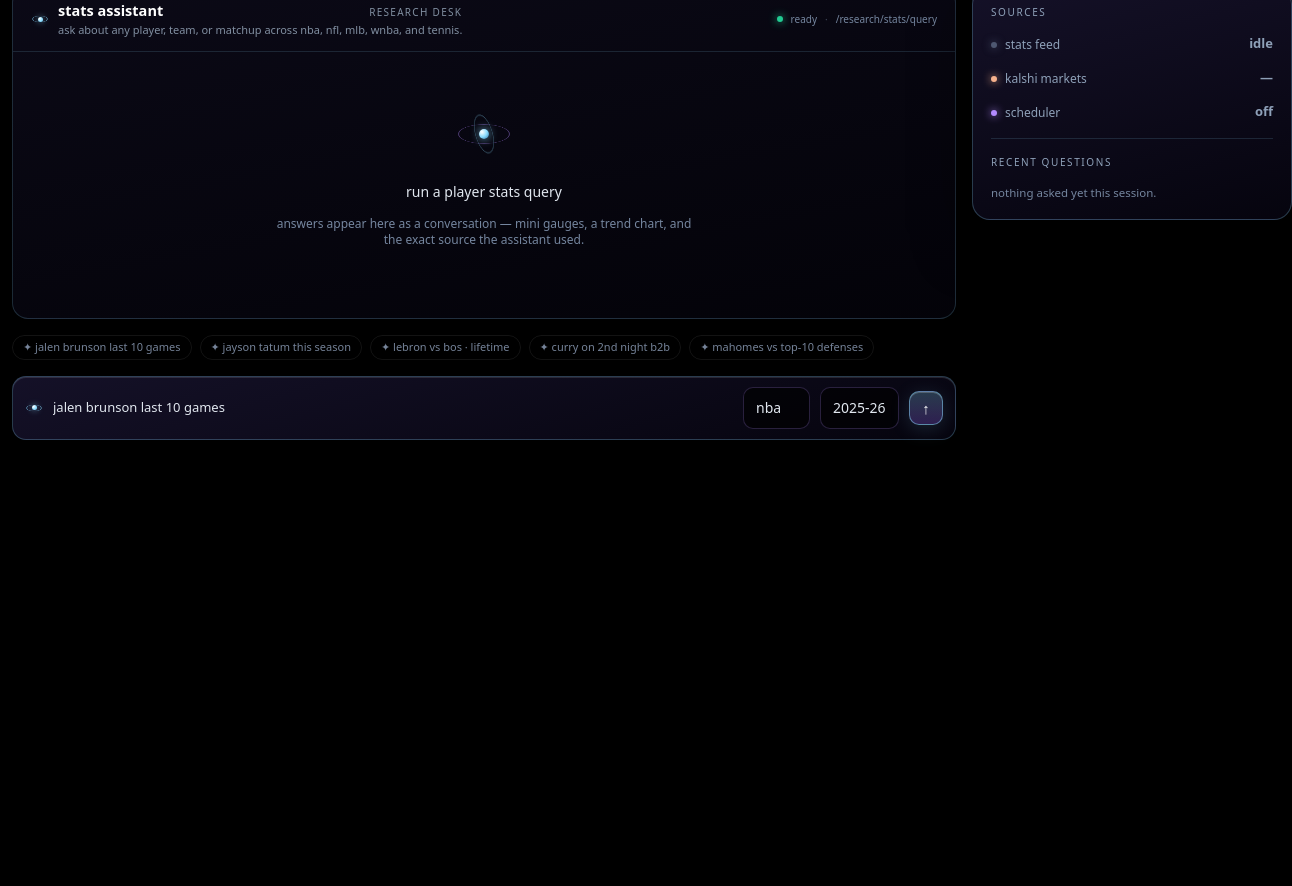
Test: StatsWorkspace — Phase 2 sa-* rewrite › derives the chart from the first metric_labels key, not team_score
Click the button with test id "sa-run" at coordinates (926, 408), box [909,391,943,425]
(page scrolled)
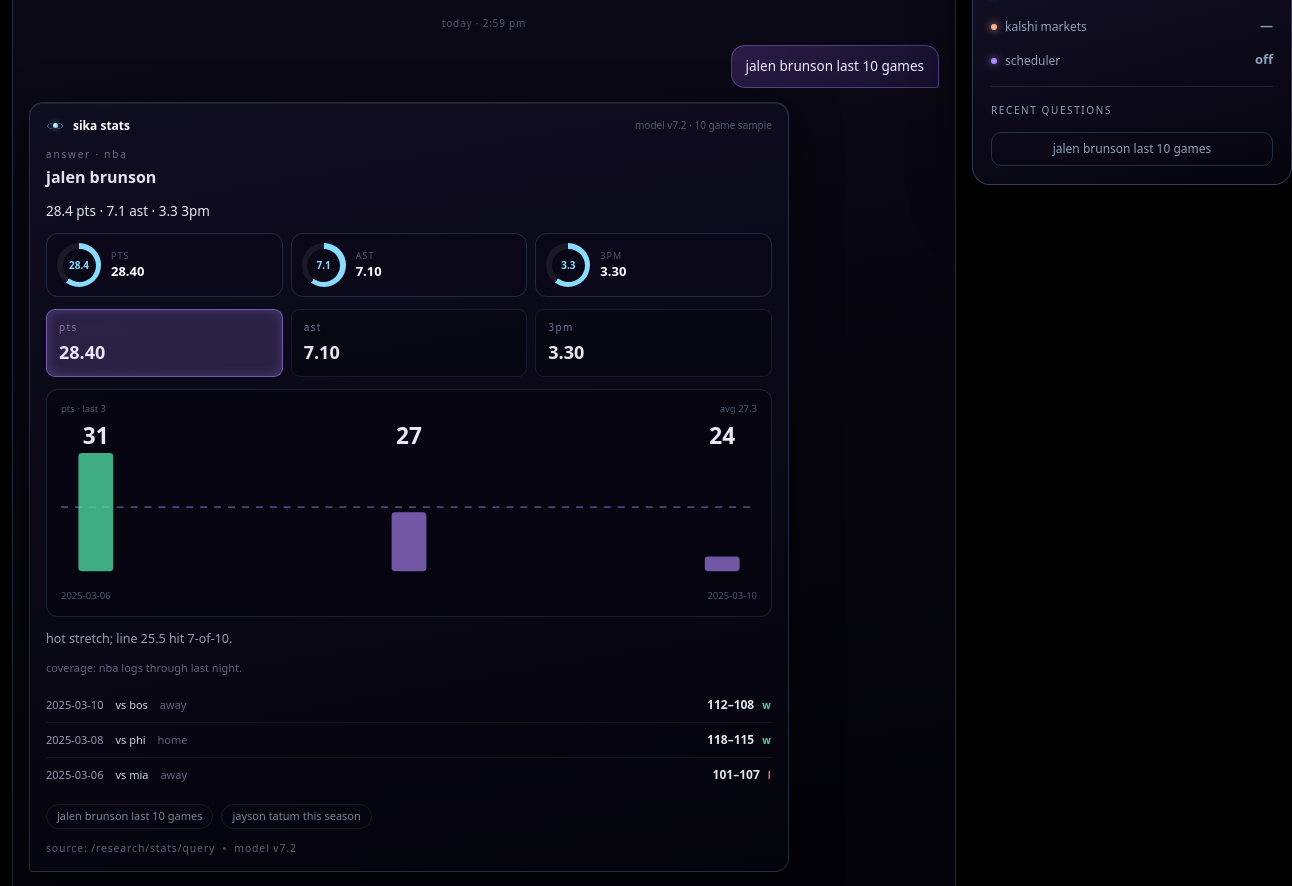
Expected: the text "PTS · last 3" is shown, [61,402,106,417]
